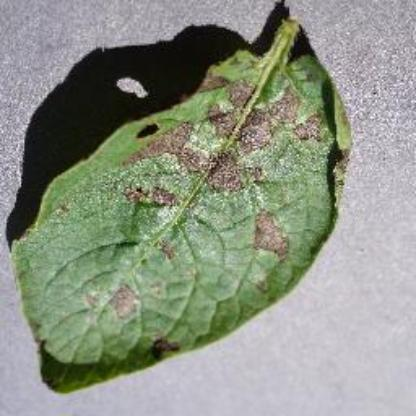Early-Blight: (11, 13, 363, 393)
